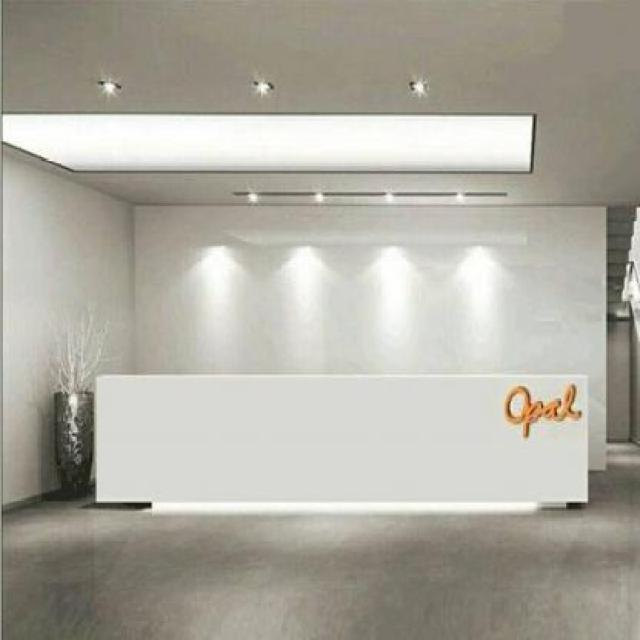frontdesk: (91, 358, 595, 522)
